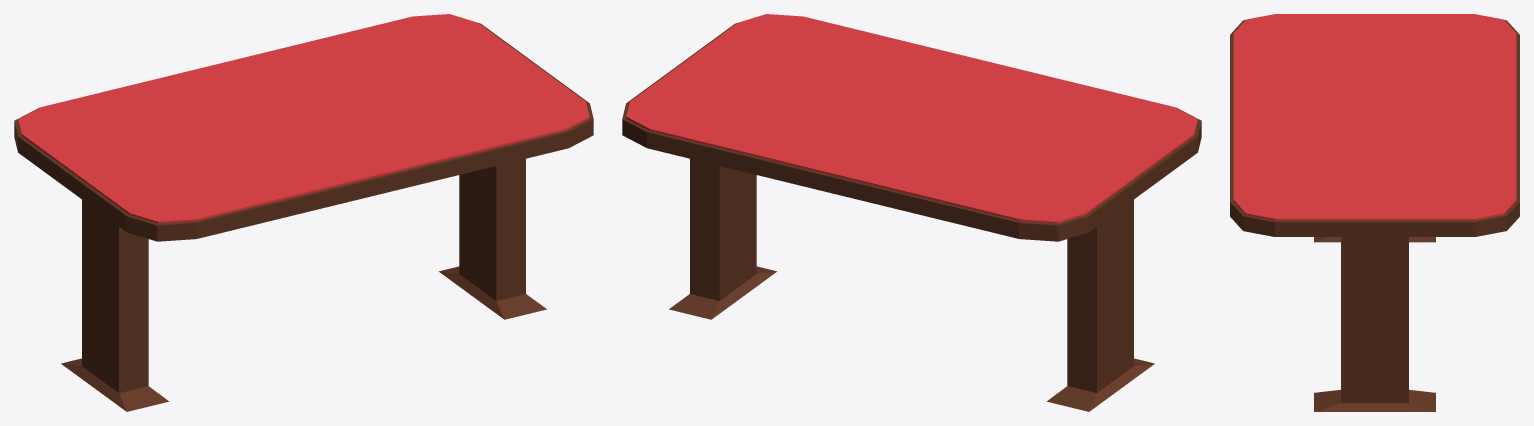
File: Table.fbx
3 renders of one model, left to right at view 1: azimuth 30°, elevation 25°; view 2: azimuth 150°, elevation 25°; view 3: azimuth 270°, elevation 25°, orthographic. The views are drawn at different scales.
Visible parts, largest first — view 1: Table; view 2: Table; view 3: Table.
Part boxes in pixels (x1,y1,x2,y2): Table: [14, 14, 593, 411]; Table: [622, 14, 1201, 411]; Table: [1230, 14, 1519, 411].
Size of the model in its own units: 193 by 87.3 by 114.
